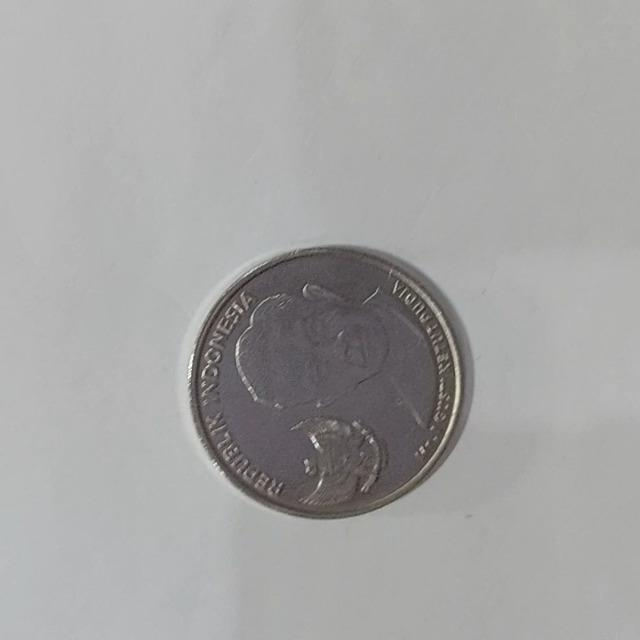Rp100: (185, 242, 465, 519)
